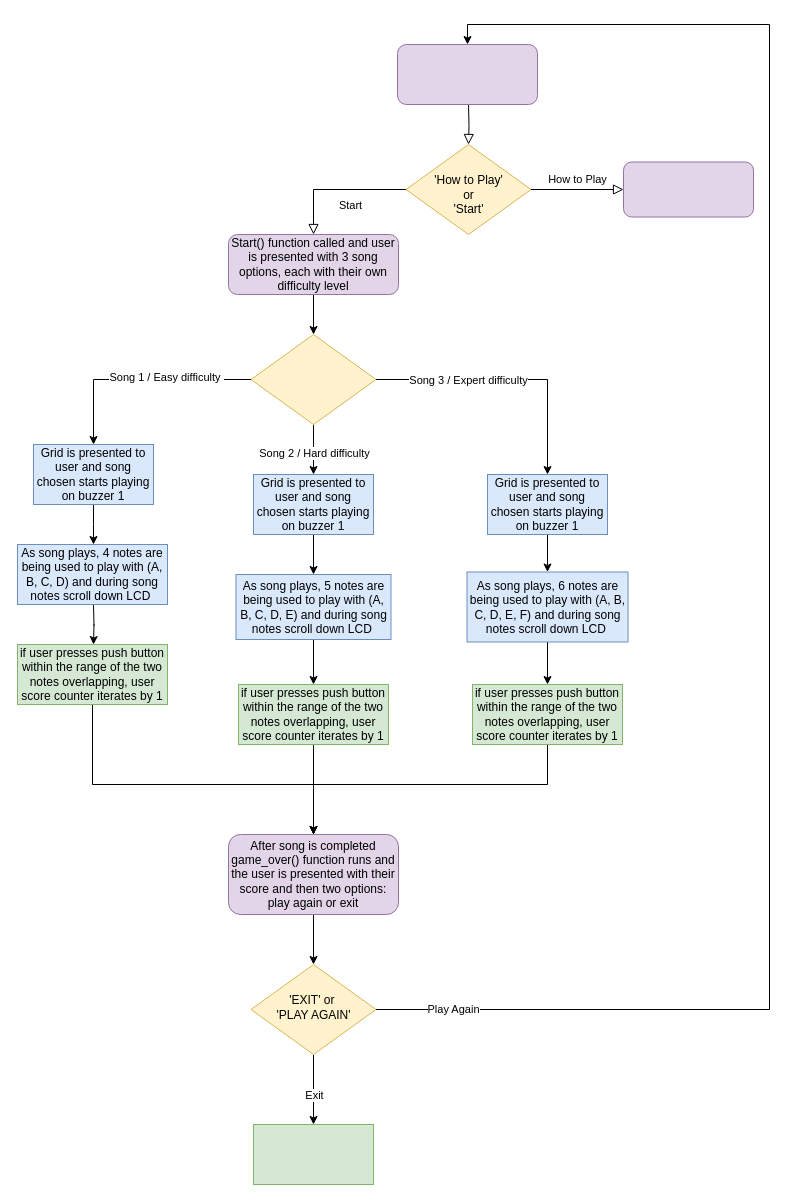
Image size: 795x1202. Some labels were removed from this diagram. The shapes that lost their labels are listed below. From the top down, each one's box as (x1, y1, x2, y2) in pixels, then its label:
(396, 44, 538, 104): Main Menu function runs and presented to user
(622, 161, 754, 217): Tutorial function called and presents to user how to play game
(250, 334, 376, 424): Song 1, Song 2, or Song 3?
(252, 1124, 374, 1184): LCD screen shuts down
